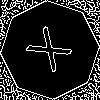X: (25, 25, 81, 80)
